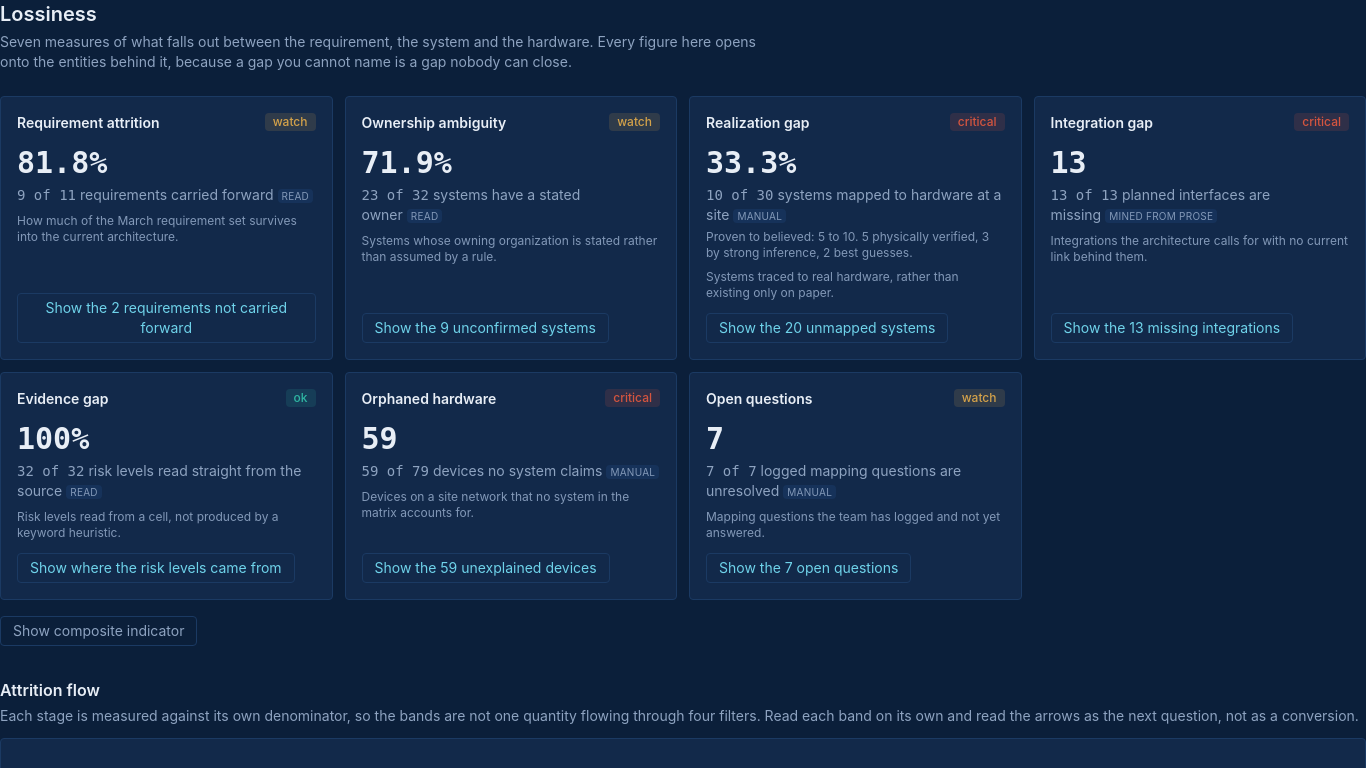
Lossiness › names the two dropped requirements
The image size is (1366, 768).
Click the button "Show the 2 requirements not carried forward".
click(166, 318)  # box [17,293,316,343]
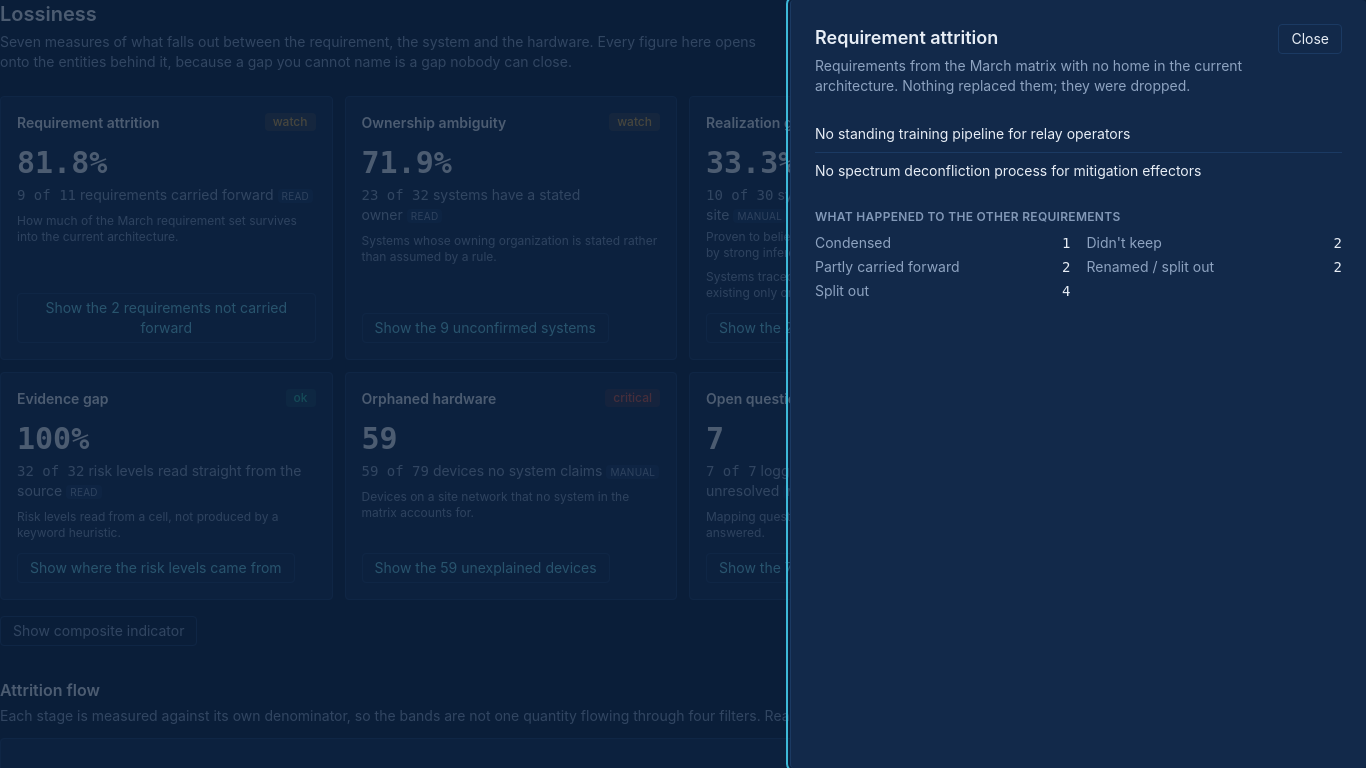
expect the list item "No standing training pipeline for relay operators" is shown: met, box [815,116,1342,153]
expect the list item "No spectrum deconfliction process for mitigation effectors" is shown: met, box [815,162,1201,179]
expect the number of list items is 2: met, box [815,116,1342,153]; [815,162,1201,179]
